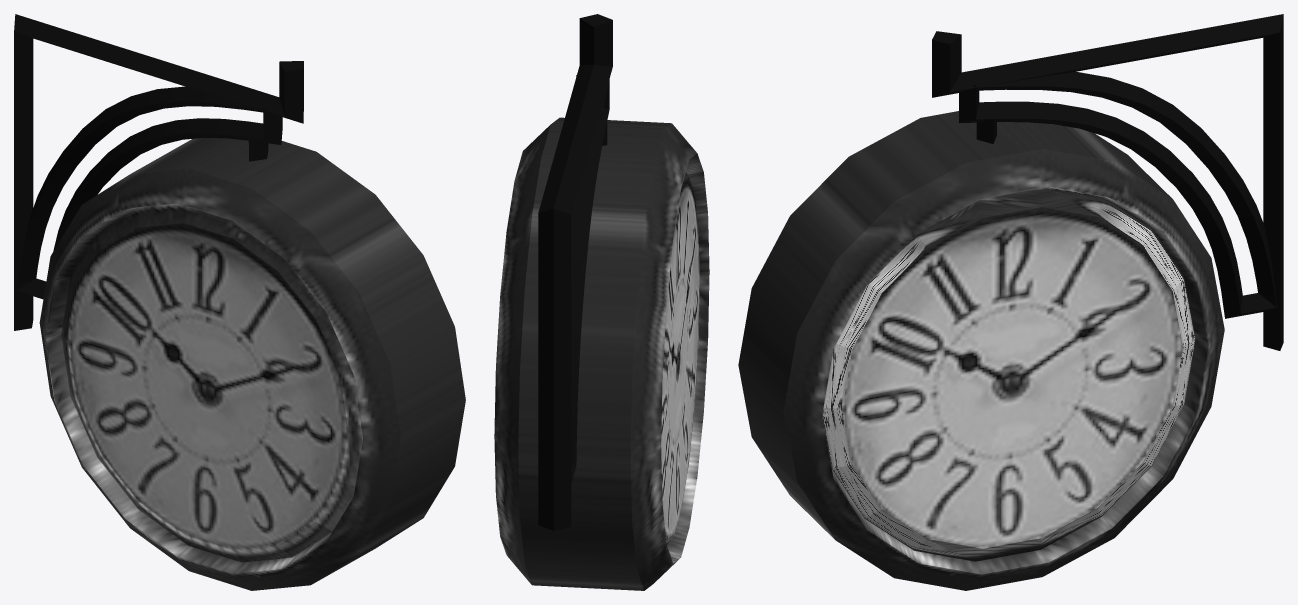
Rendered from Street_watch_Single.FBX.
3 renders of one model, left to right at view 1: azimuth 30°, elevation 25°; view 2: azimuth 150°, elevation 25°; view 3: azimuth 270°, elevation 25°, orthographic. The views are drawn at different scales.
Visible parts, largest first — view 1: Street_watch_A, Line001; view 2: Street_watch_A, Line001; view 3: Street_watch_A, Line001.
Part boxes in pixels (bbox=[...]): Street_watch_A: bbox=[39, 137, 465, 590]; Line001: bbox=[14, 14, 303, 330]; Street_watch_A: bbox=[494, 117, 709, 590]; Line001: bbox=[538, 14, 612, 530]; Street_watch_A: bbox=[738, 111, 1224, 590]; Line001: bbox=[932, 14, 1283, 350].
Size of the model in its own units: 53.93 by 98.62 by 90.9.
2 materials, 1 textured.
